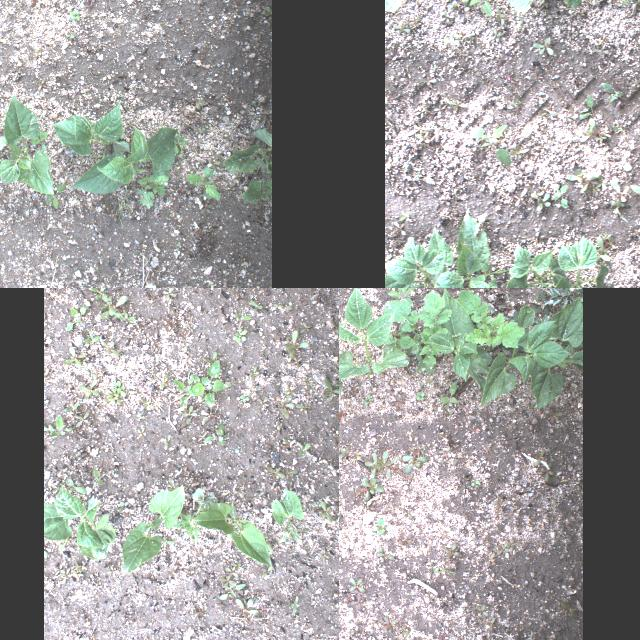crop: (479, 304, 569, 406), (69, 122, 179, 194), (426, 288, 492, 392), (339, 288, 409, 379), (495, 236, 609, 288), (121, 485, 187, 573), (44, 482, 118, 560), (436, 209, 507, 288), (384, 226, 473, 288), (532, 296, 580, 408), (192, 499, 272, 566), (0, 92, 52, 193), (52, 102, 120, 156), (224, 127, 270, 203), (172, 484, 218, 542), (270, 488, 306, 544), (186, 165, 220, 201), (537, 0, 616, 9), (483, 0, 533, 11), (384, 0, 400, 12)
weed: (385, 288, 453, 372), (456, 288, 528, 346), (172, 351, 232, 411), (469, 122, 509, 168), (132, 170, 168, 210), (536, 288, 569, 328), (98, 292, 136, 322), (280, 328, 312, 360), (274, 388, 310, 416), (566, 168, 600, 196), (62, 301, 92, 329), (580, 116, 612, 142), (203, 420, 230, 446), (233, 594, 261, 618), (44, 178, 66, 208), (216, 579, 248, 599), (102, 379, 126, 405), (44, 412, 68, 438), (60, 344, 86, 368), (218, 561, 244, 585), (596, 232, 616, 262), (283, 437, 313, 457), (438, 380, 458, 410), (402, 450, 426, 474), (358, 475, 380, 501), (373, 450, 393, 478), (600, 81, 624, 102), (318, 496, 336, 524), (320, 378, 339, 404), (64, 473, 86, 495), (76, 375, 98, 397), (610, 178, 630, 202), (81, 326, 101, 350), (463, 0, 491, 17), (530, 190, 552, 210), (611, 198, 629, 222), (552, 182, 568, 208), (180, 406, 200, 426), (232, 324, 252, 344), (578, 94, 594, 118), (102, 338, 121, 358), (442, 542, 463, 560), (531, 37, 553, 54), (290, 591, 304, 617), (246, 297, 272, 311), (246, 359, 262, 381), (231, 310, 253, 326), (364, 451, 378, 475), (71, 410, 89, 428), (85, 288, 112, 300), (560, 599, 578, 617), (52, 564, 68, 584), (266, 464, 286, 480), (376, 547, 396, 563), (346, 575, 366, 591), (540, 462, 554, 484), (532, 446, 546, 468), (90, 468, 104, 488), (591, 173, 607, 190), (408, 124, 430, 136), (445, 98, 467, 110), (629, 184, 640, 208), (278, 300, 296, 314), (350, 592, 364, 610), (392, 22, 412, 34), (161, 288, 177, 303), (171, 298, 183, 318), (141, 396, 155, 412), (61, 398, 77, 412), (72, 565, 88, 579), (260, 564, 276, 578), (374, 518, 388, 534), (331, 422, 339, 448), (158, 373, 170, 389), (475, 602, 487, 618), (257, 396, 271, 409), (494, 8, 504, 26), (164, 431, 172, 453), (113, 501, 129, 512), (490, 28, 502, 42), (393, 220, 405, 234), (415, 132, 429, 144), (432, 103, 446, 115), (238, 390, 252, 402), (82, 365, 98, 375), (412, 104, 423, 118), (68, 8, 80, 20), (610, 122, 624, 132), (339, 449, 349, 463), (439, 11, 449, 23), (398, 210, 410, 220), (150, 360, 162, 370), (415, 391, 425, 401), (200, 204, 212, 212), (471, 479, 483, 487), (363, 393, 371, 405), (261, 7, 271, 16), (553, 411, 563, 419), (65, 33, 75, 39), (166, 635, 176, 640), (431, 62, 437, 70)
